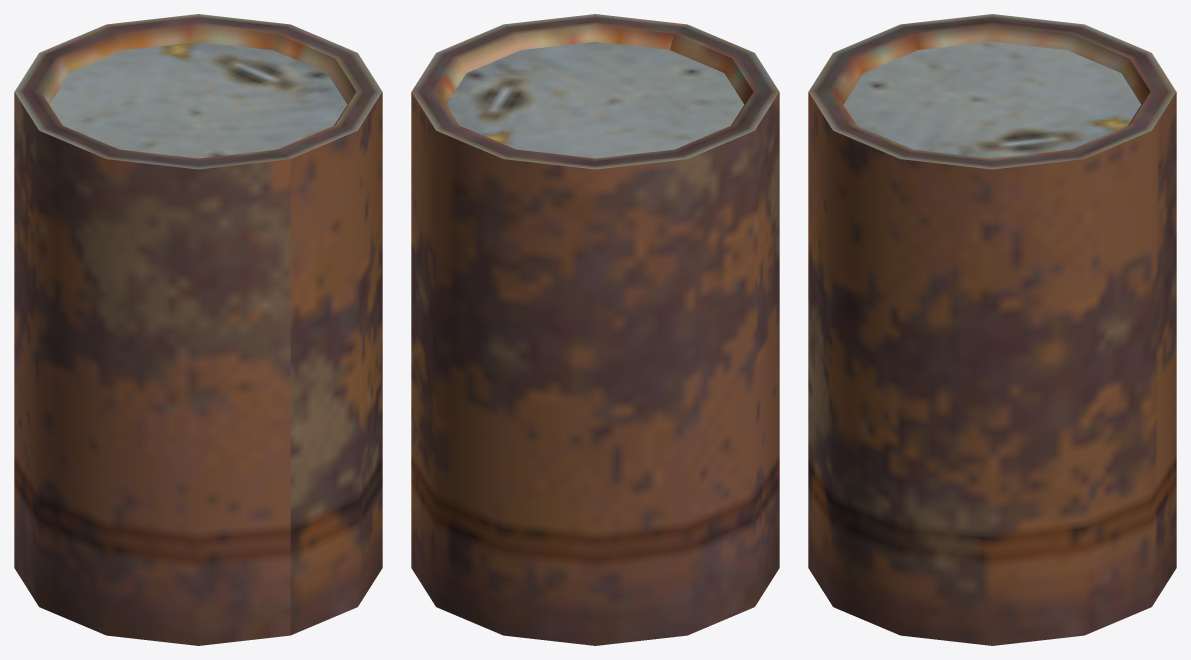
The model's file is SM_SMALLBARREL_02.fbx.
The picture shows the model from 3 angles, left to right: view 1: azimuth 30°, elevation 25°; view 2: azimuth 150°, elevation 25°; view 3: azimuth 270°, elevation 25°; orthographic projection.
Parts seen in each view (by area): view 1: SM_SMALLBARREL_02; view 2: SM_SMALLBARREL_02; view 3: SM_SMALLBARREL_02.
Boxes of the visible parts, x1,y1,x2,y2 form: SM_SMALLBARREL_02: [14, 14, 382, 645]; SM_SMALLBARREL_02: [411, 14, 779, 645]; SM_SMALLBARREL_02: [808, 14, 1176, 645].
Size of the model in its own units: 0.7 by 1 by 0.7.
